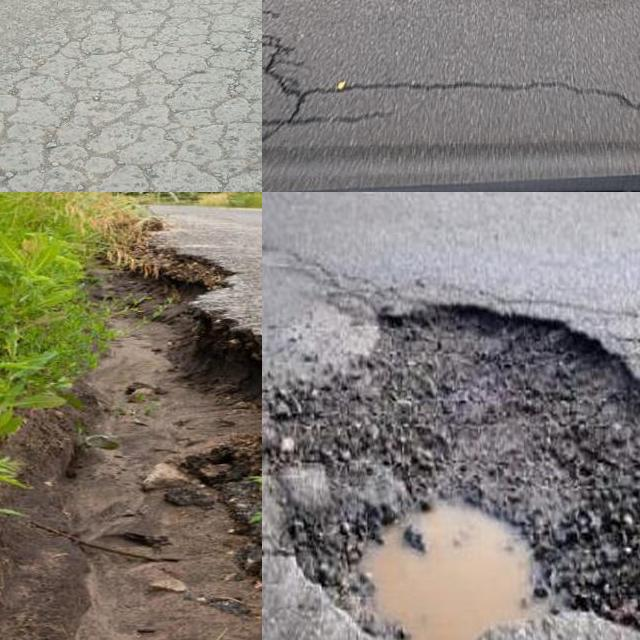Lubang: (262, 312, 640, 640)
Melintang: (311, 73, 640, 122)
Pinggir: (117, 238, 262, 489)
Retak Buaya: (0, 0, 262, 192)
